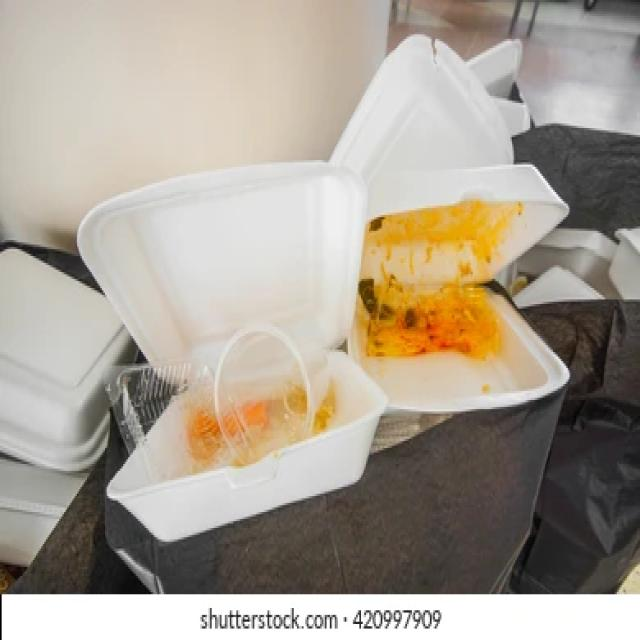styrofoam: (74, 29, 571, 590)
